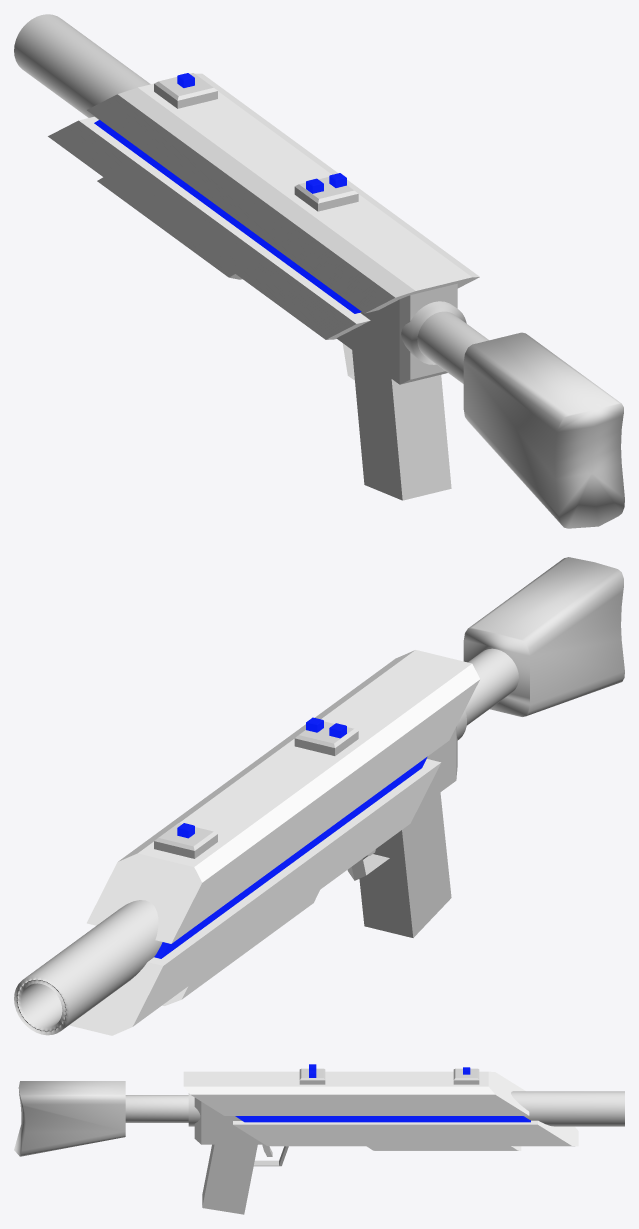
Rendered from static_rc.glb.
The picture shows the model from 3 angles, top to bottom: view 1: azimuth 30°, elevation 25°; view 2: azimuth 150°, elevation 25°; view 3: azimuth 270°, elevation 25°; orthographic projection. The views are drawn at different scales.
Parts seen in each view (by area): view 1: Cube.007, Cube.008, Cube.001, Cube.004, Cylinder, Cube.003, Cube.005, Cylinder.001, Cube.002, Cube.009, Cube; view 2: Cube.007, Cube.008, Cube.001, Cylinder, Cube.004, Cube.005, Cylinder.001, Cube.002, Cube.009, Cube.003, Cube; view 3: Cube.007, Cube.008, Cube.001, Cylinder, Cube.005, Cube.004, Cube.002, Cylinder.001, Cube.003, Cube.009, Cube, Torus.
Part boxes in pixels (x1,y1,x2,y2): Cube.007: (87,73,479,313); Cube.008: (463,332,624,528); Cube.001: (48,116,370,339); Cube.004: (352,350,451,500); Cylinder: (14,14,466,364); Cube.003: (336,283,457,384); Cube.005: (97,164,257,279); Cylinder.001: (417,311,488,383); Cube.002: (94,120,361,313); Cube.009: (154,73,217,108); Cube: (294,177,358,211); Cube.007: (87,650,480,943); Cube.008: (463,557,624,716); Cube.001: (69,759,441,1035); Cylinder: (14,710,466,1035); Cube.004: (359,792,451,937); Cube.005: (162,854,336,1005); Cylinder.001: (465,648,518,725); Cube.002: (154,756,427,958); Cube.009: (154,823,217,858); Cube.003: (418,726,457,808); Cube: (294,721,358,755); Cube.007: (183,1071,529,1115); Cube.008: (14,1081,125,1156); Cube.001: (233,1120,578,1146); Cylinder: (188,1091,624,1126); Cube.005: (341,1129,521,1150); Cube.004: (202,1144,257,1214); Cube.002: (235,1116,530,1122); Cylinder.001: (125,1095,188,1122); Cube.003: (194,1098,264,1144); Cube.009: (453,1068,479,1084); Cube: (299,1068,325,1084); Torus: (253,1146,288,1166).
Size of the model in its own units: 2 by 5.73 by 22.75.
